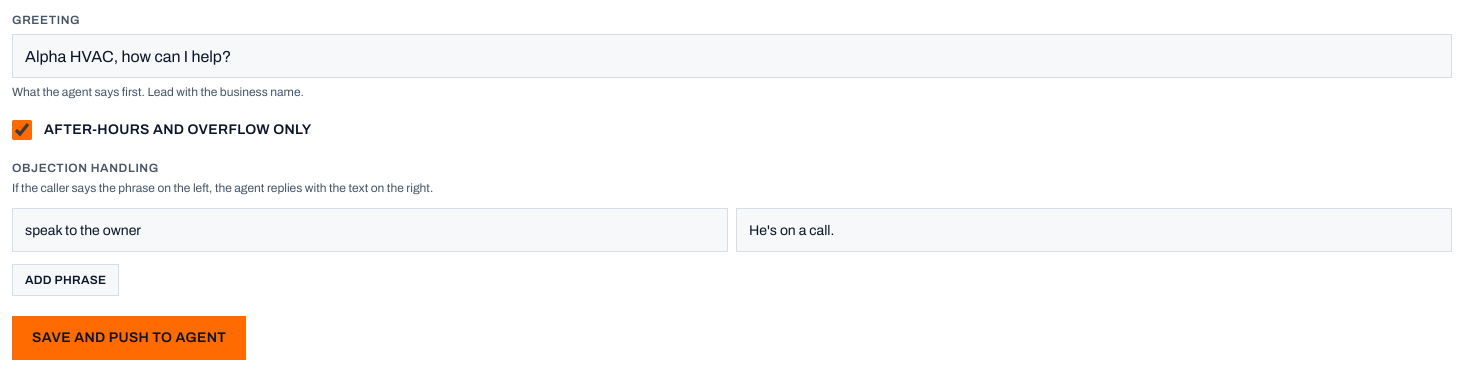
Test case: PromptEditor › reports that the change was pushed to the agent
Click the button "Save and push to agent": (129, 338) [12,316,246,360]
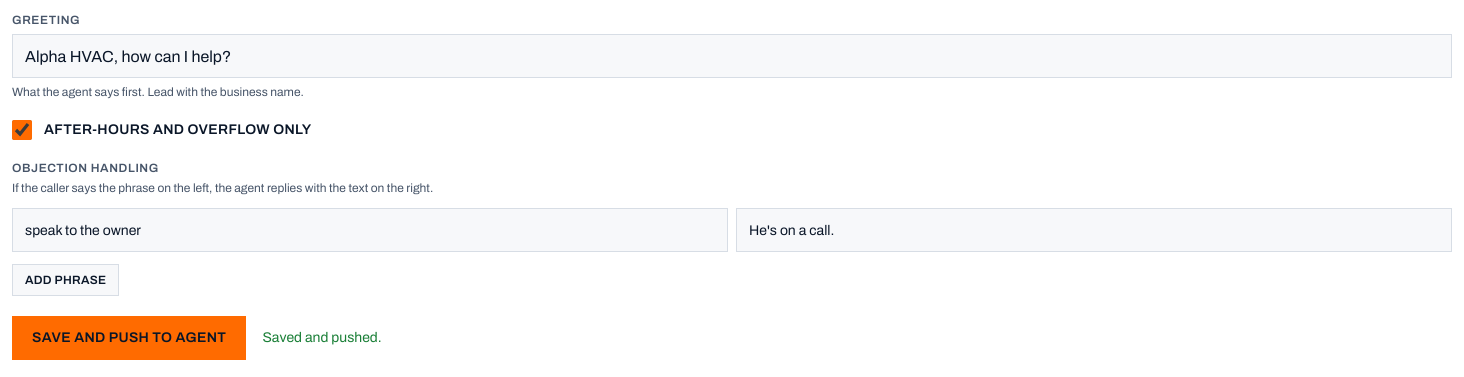
Result: the text "Saved and pushed." is shown at [262,328,382,348]
